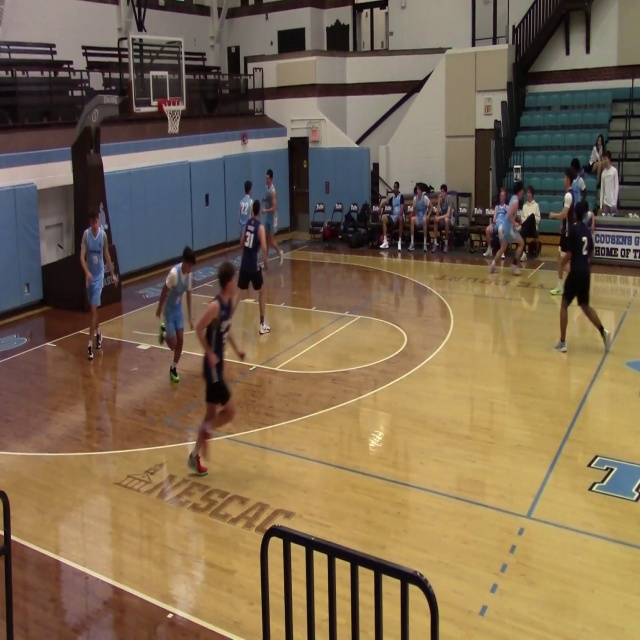Basketball: (166, 330, 177, 350), (563, 191, 572, 208), (241, 133, 248, 145)
